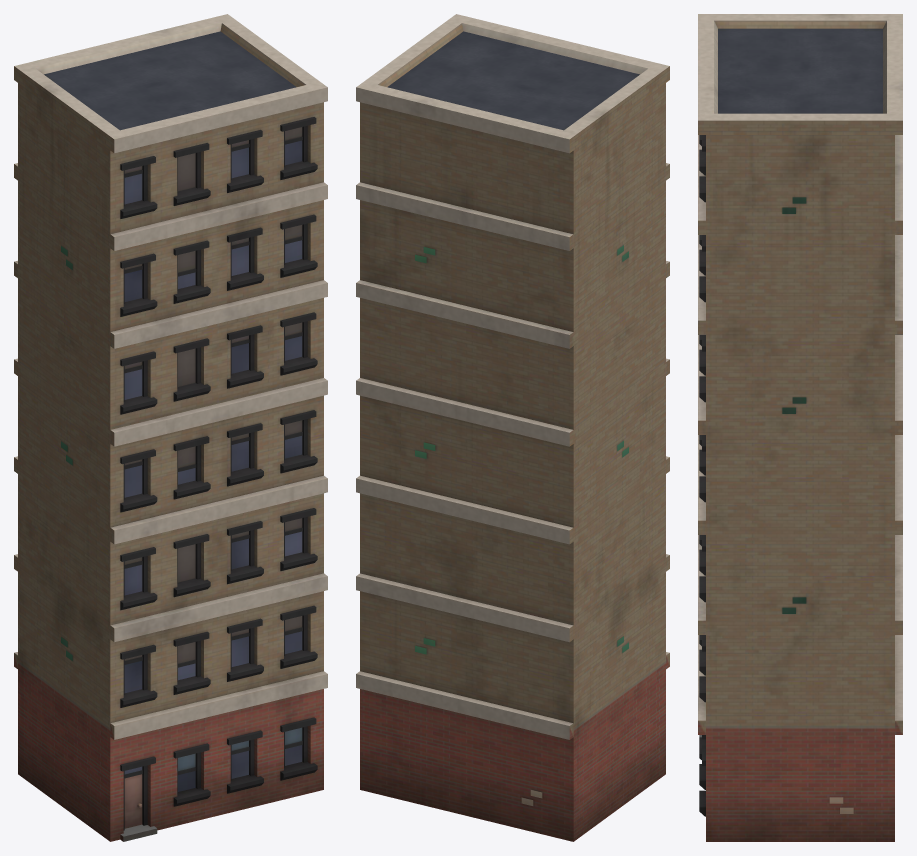
Rendered from building_D_8f.glb.
3 views of the same model, side by side, from view 1: azimuth 30°, elevation 25°; view 2: azimuth 150°, elevation 25°; view 3: azimuth 270°, elevation 25° (orthographic). The views are drawn at different scales.
Visible parts, largest first — view 1: ground; view 2: ground; view 3: ground.
Boxes of the visible parts, <box> form: ground: <box>14,14,327,841</box>; ground: <box>356,14,669,841</box>; ground: <box>698,14,902,841</box>.
Size of the model in its own units: 1.61 by 5.05 by 1.3.
2 materials, 2 textured.
